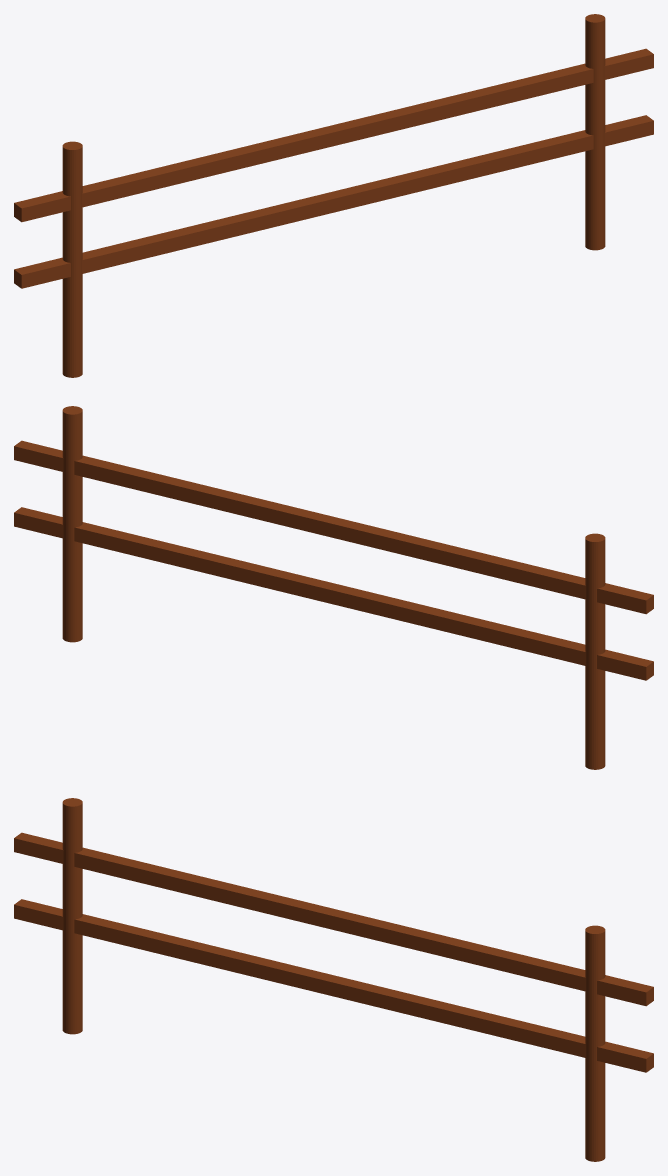
File: zabor.fbx
The picture shows the model from 3 angles, top to bottom: view 1: azimuth 30°, elevation 25°; view 2: azimuth 150°, elevation 25°; view 3: azimuth 330°, elevation 25°; orthographic projection.
Parts seen in each view (by area): view 1: Cube; view 2: Cube; view 3: Cube.
Boxes of the visible parts, box(x1,y1,x2,y2) form: Cube: box(14, 14, 653, 377); Cube: box(14, 406, 653, 769); Cube: box(14, 798, 653, 1161).
Bounding box in the file's own units: 706 × 243 × 19.47.
